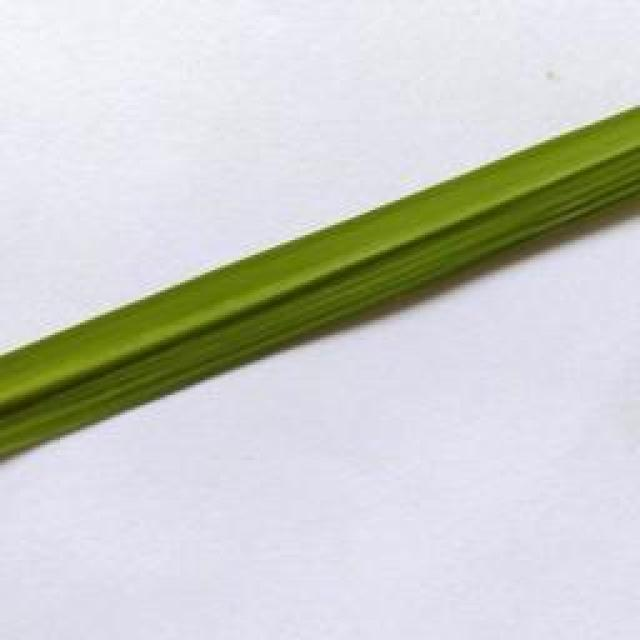Healthy-Plant: (0, 106, 640, 459)
